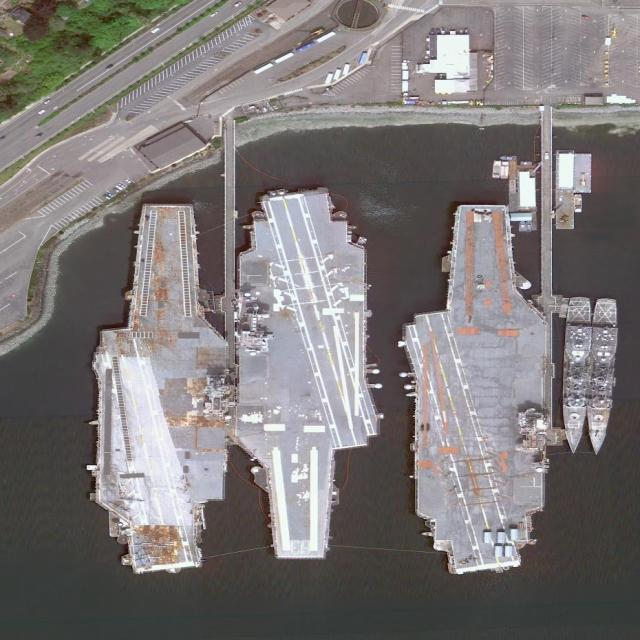Aircraft Carrier: (231, 187, 383, 560), (401, 204, 549, 575), (87, 202, 233, 575)
Dock: (535, 114, 557, 315), (220, 135, 237, 341)
Frigate: (559, 297, 593, 454), (586, 298, 618, 455)
